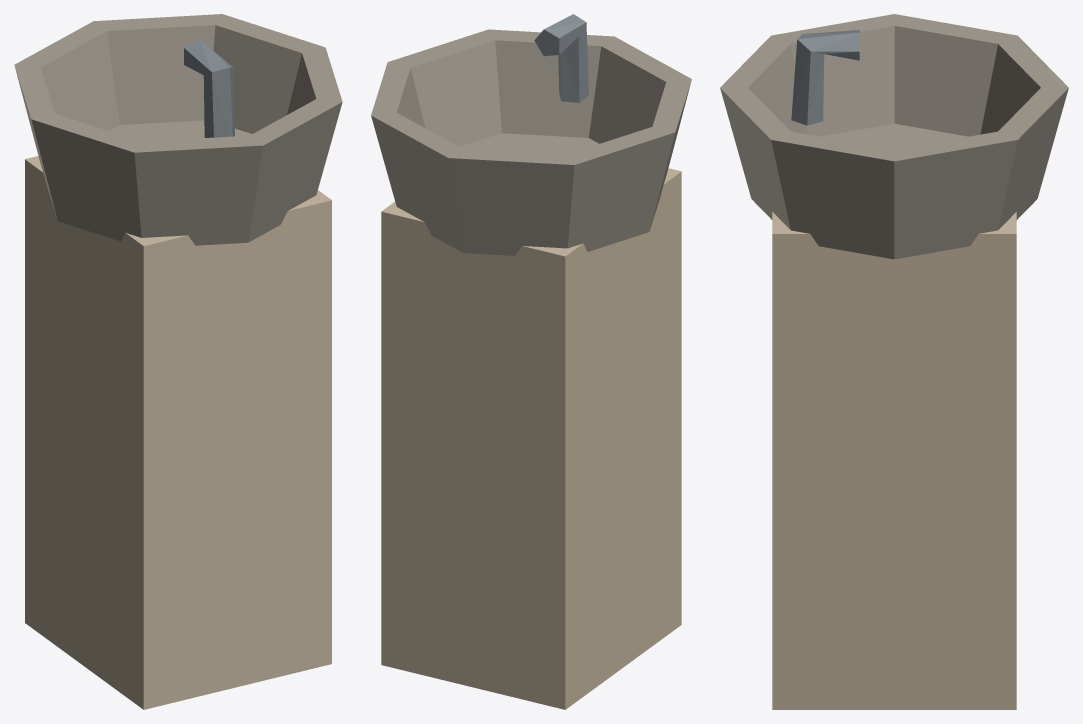
The model's file is drinking_fountain.fbx.
3 renders of one model, left to right at view 1: azimuth 30°, elevation 25°; view 2: azimuth 150°, elevation 25°; view 3: azimuth 270°, elevation 25°, orthographic. The views are drawn at different scales.
Visible parts, largest first — view 1: drinking_fountain; view 2: drinking_fountain; view 3: drinking_fountain.
Boxes of the visible parts, x1,y1,x2,y2 form: drinking_fountain: [14, 14, 342, 709]; drinking_fountain: [371, 14, 691, 709]; drinking_fountain: [720, 14, 1068, 709].
Bounding box in the file's own units: 0.5 × 1 × 0.5.
